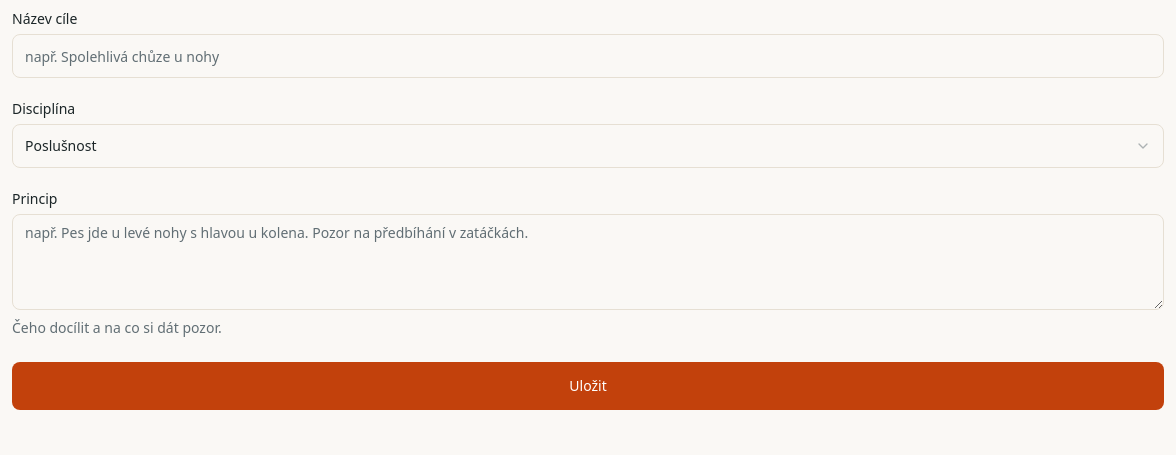
it: GoalForm › shows a message under the title when it is missing
Click the button "Uložit": (588, 386) top-left (12, 362), bottom-right (1164, 410)
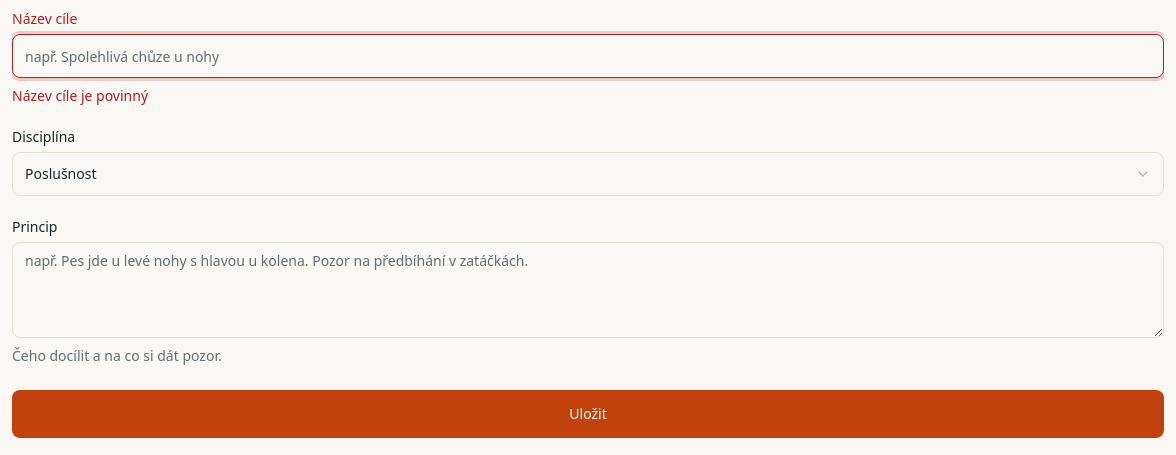
expect the text "Název cíle je povinný" is shown: met, box top-left (12, 86), bottom-right (148, 105)
